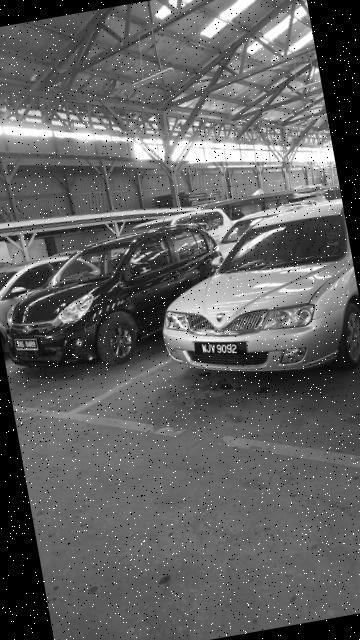License_Plate: (192, 330, 250, 368), (11, 333, 44, 358)
car: (149, 203, 360, 405), (1, 214, 236, 386)
